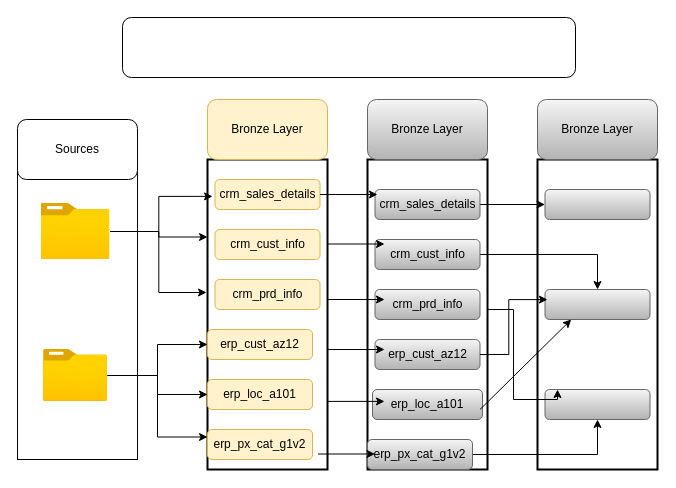
This 676x488 diagram has some shape labels left out. The centre of each missing label's shape, as x and y in pixels:
"CRM" belongs at [75,231].
"Data Flow" belongs at [349,47].
"dim_customers" belongs at [597,304].
"dim_products" belongs at [597,404].
"ERP" belongs at [75,375].
"fact_sales" belongs at [597,204].
